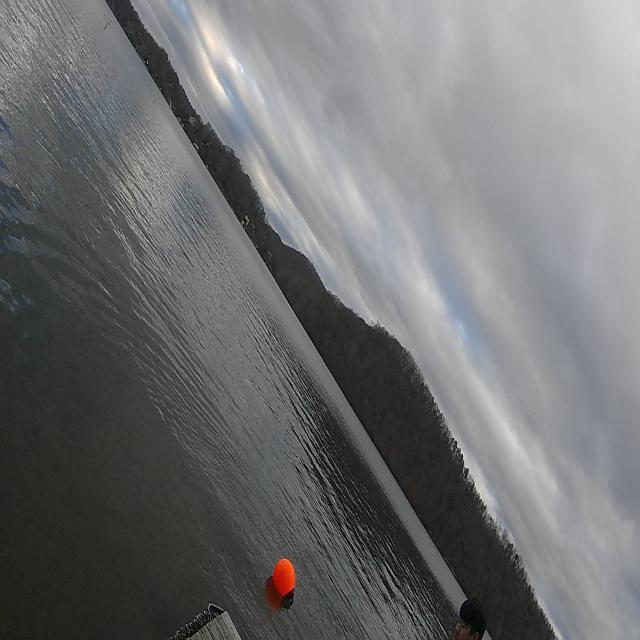Buoy: (268, 553, 300, 607)
